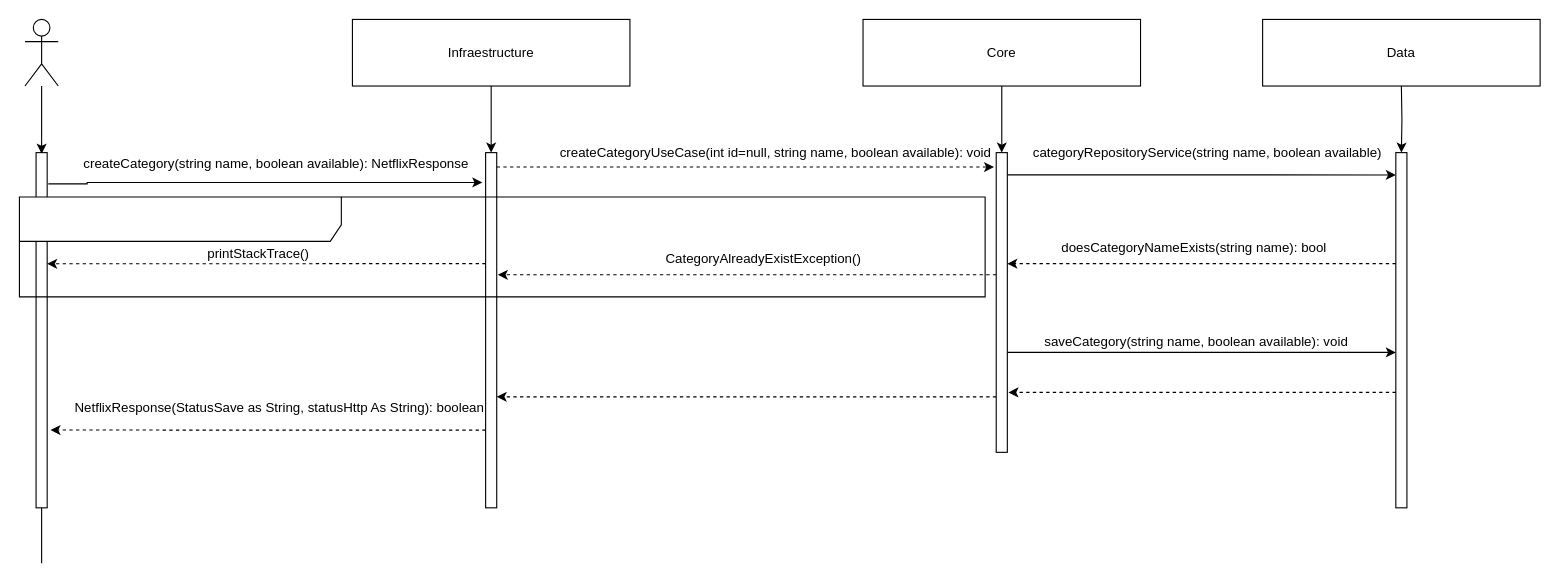
Some shapes in this 1560 by 584 pixel diagram are drawn without their labels. The box of each missing label's shape, as (x1, y1, x2, y2) in pixels:
Actor: (24, 18, 58, 86)
critical Se existir available ou name existente: (18, 196, 985, 297)
